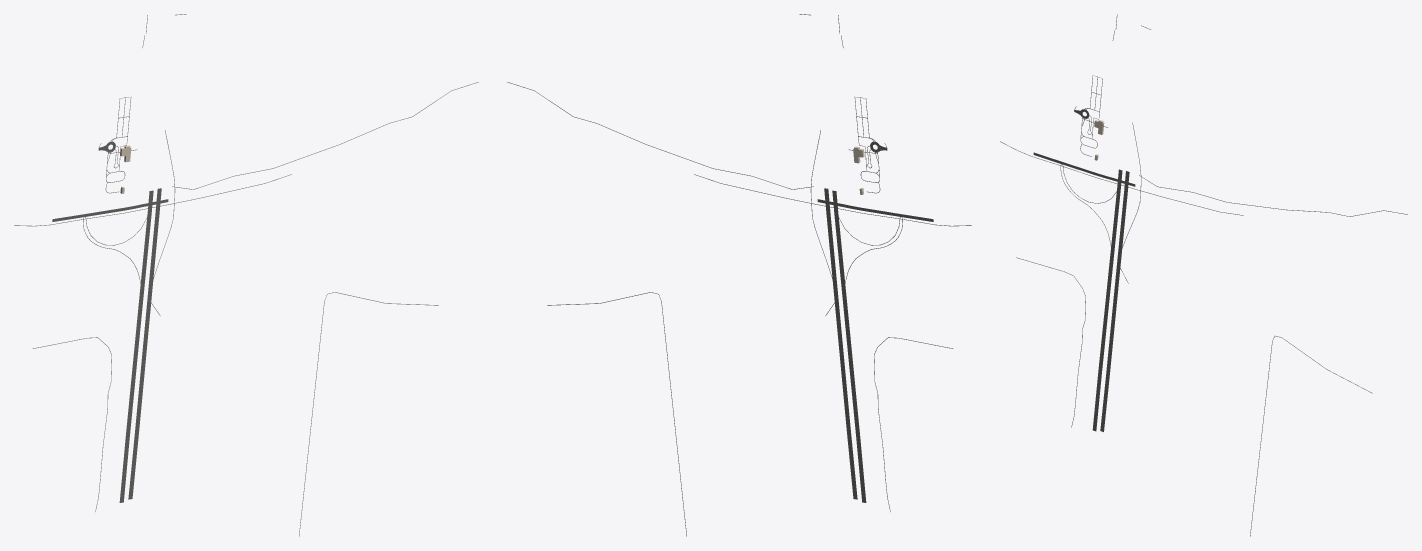
Rendered from historic-palestine-06_23_3482_3174.glb.
The picture shows the model from 3 angles, left to right: view 1: azimuth 30°, elevation 25°; view 2: azimuth 150°, elevation 25°; view 3: azimuth 330°, elevation 25°; orthographic projection. The views are drawn at different scales.
Visible parts, largest first — view 1: Road כביש חוצה ישראל.003, Road כביש חוצה ישראל.001; view 2: Road כביש חוצה ישראל.003, Road כביש חוצה ישראל.001; view 3: Road כביש חוצה ישראל.003, Road כביש חוצה ישראל.001.
Part boxes in pixels (x1,y1,x2,y2): Road כביש חוצה ישראל.003: [119, 215, 151, 502]; Road כביש חוצה ישראל.001: [128, 213, 159, 499]; Road כביש חוצה ישראל.003: [834, 215, 866, 502]; Road כביש חוצה ישראל.001: [826, 213, 857, 499]; Road כביש חוצה ישראל.003: [1092, 190, 1120, 431]; Road כביש חוצה ישראל.001: [1100, 191, 1127, 431].
Size of the model in its own units: 1331 by 1529 by 8.7.
